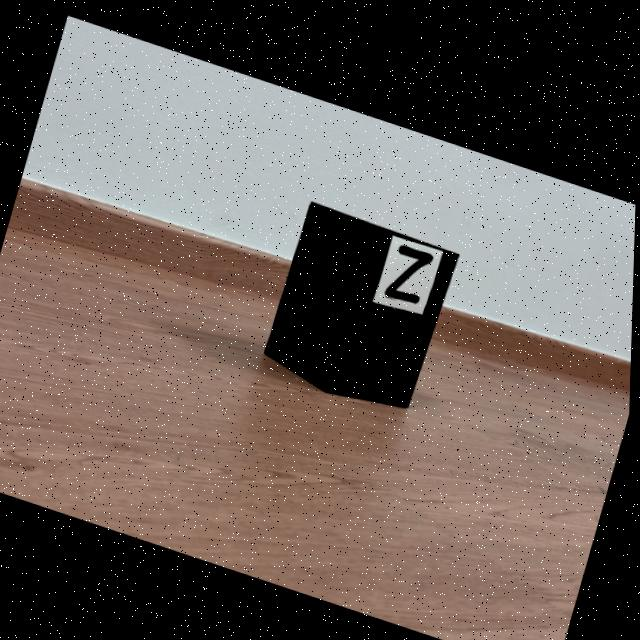Z: (385, 238, 434, 297)
